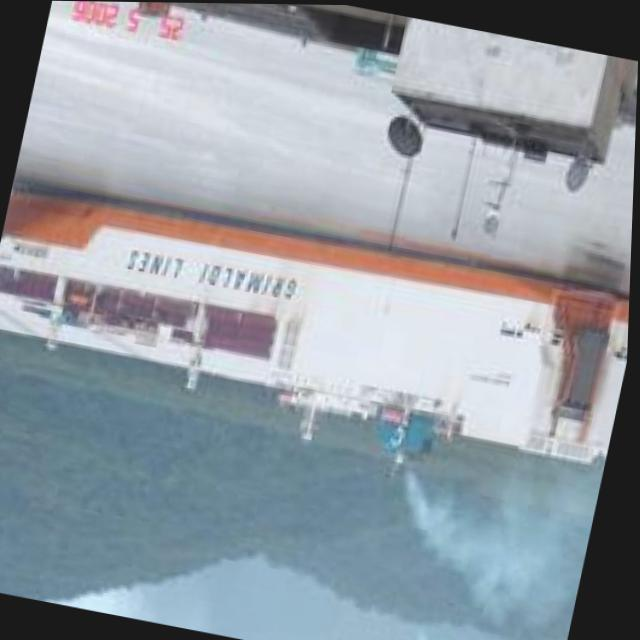ship2: (0, 176, 632, 462)
